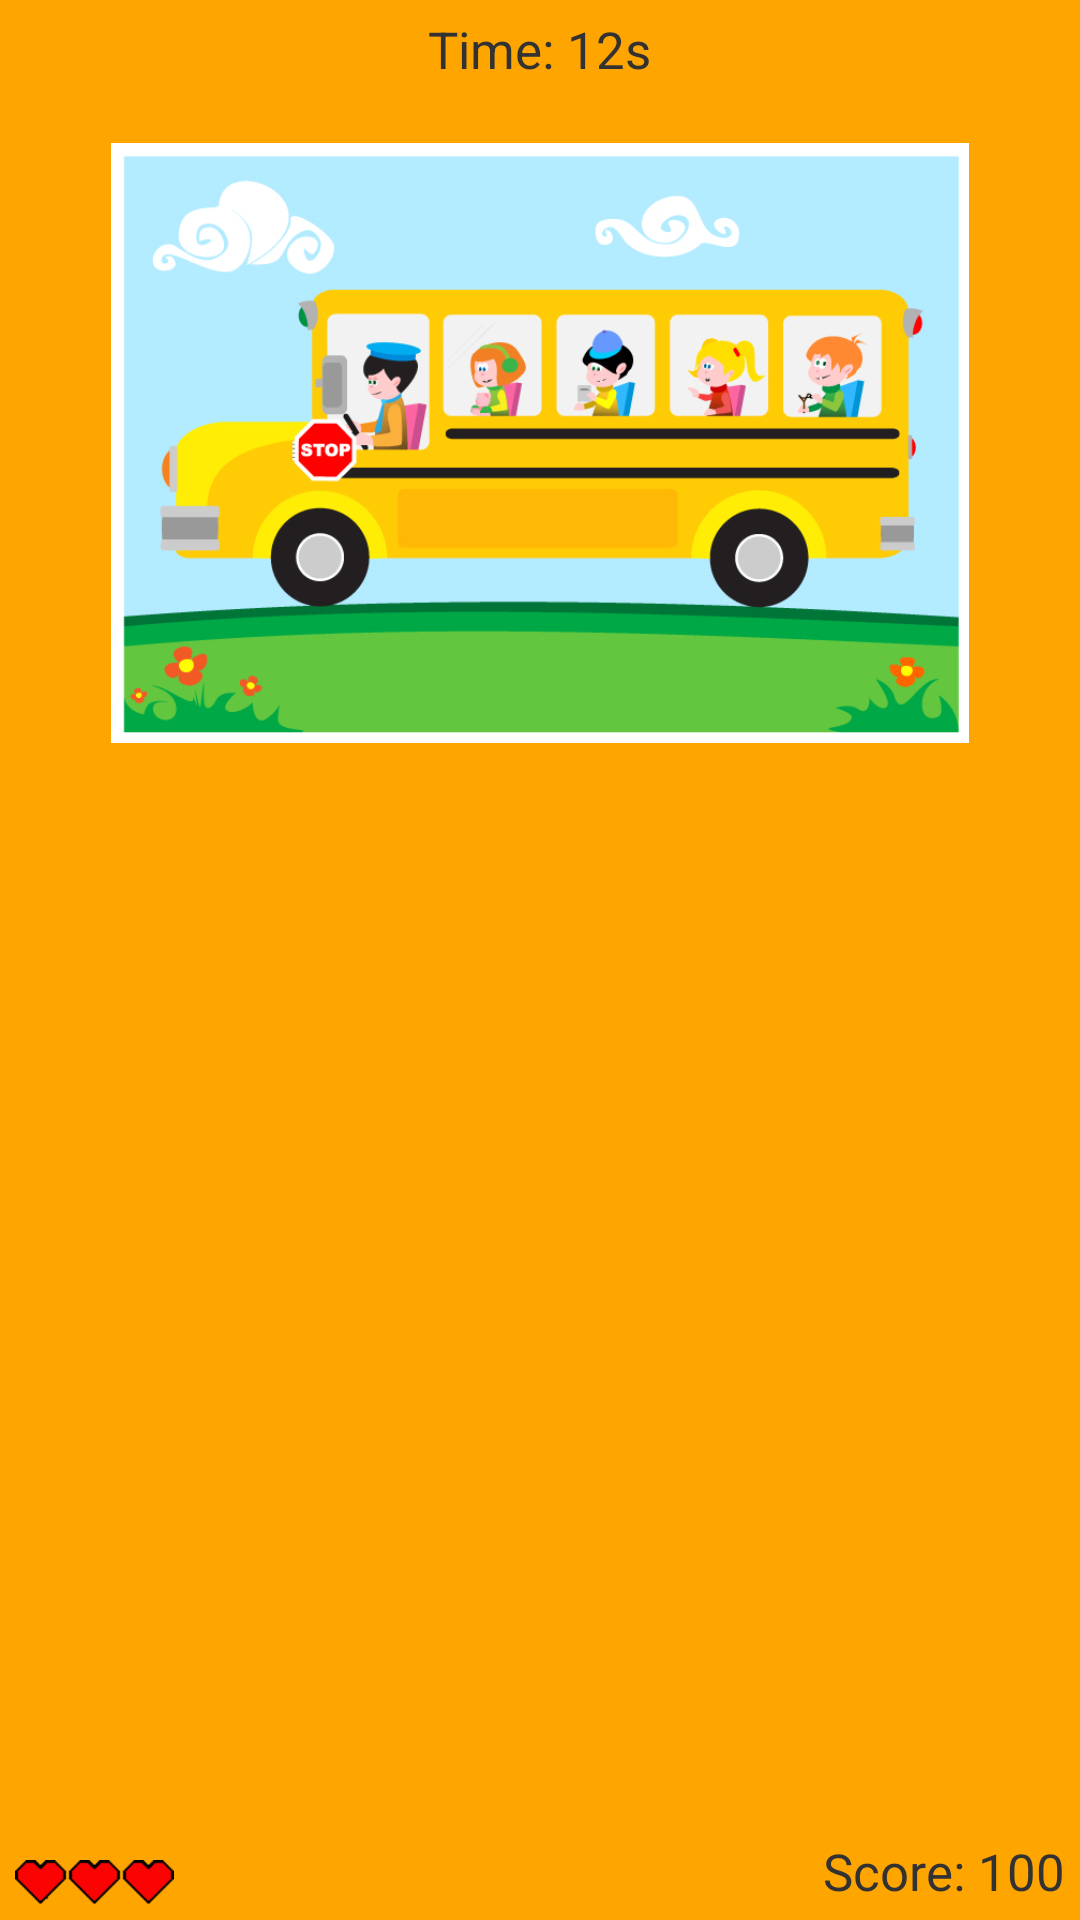

Point at icon controls on the screen. Image size 1080*1920, points as (x,y).
heart: (94,1882)
